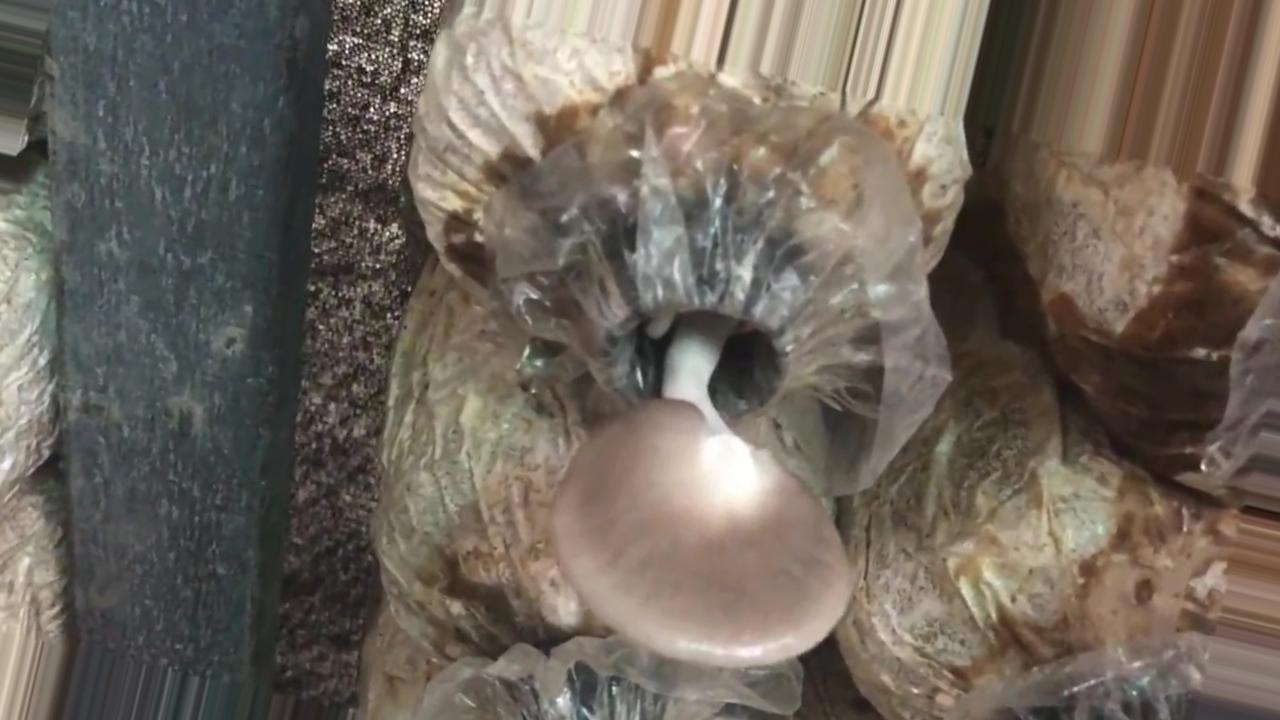nam: (546, 249, 860, 673)
